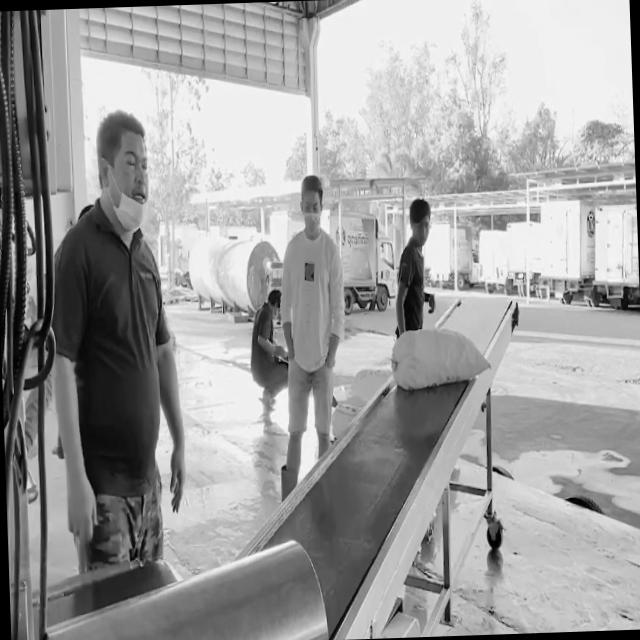ice-bag: (390, 313, 480, 405)
